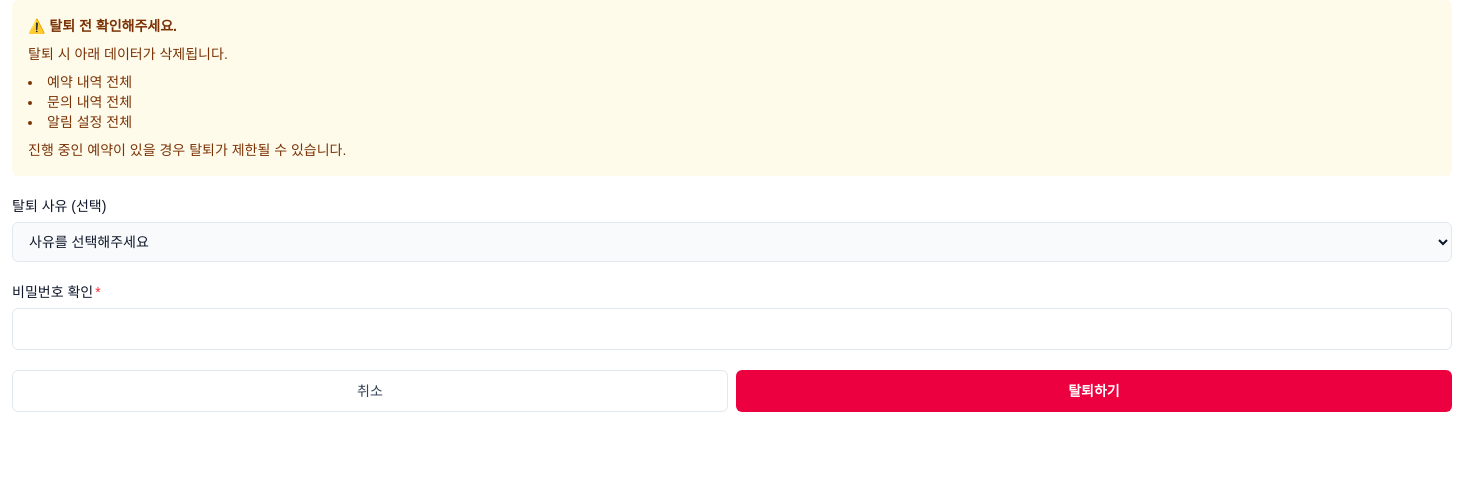
WithdrawFlow › 탈퇴 성공 → 자동 로그아웃 + 완료 화면
The image size is (1464, 491).
Select "기타" in the dropdown labelled "탈퇴 사유 (선택)" at (732, 242), box [12,222,1452,262]
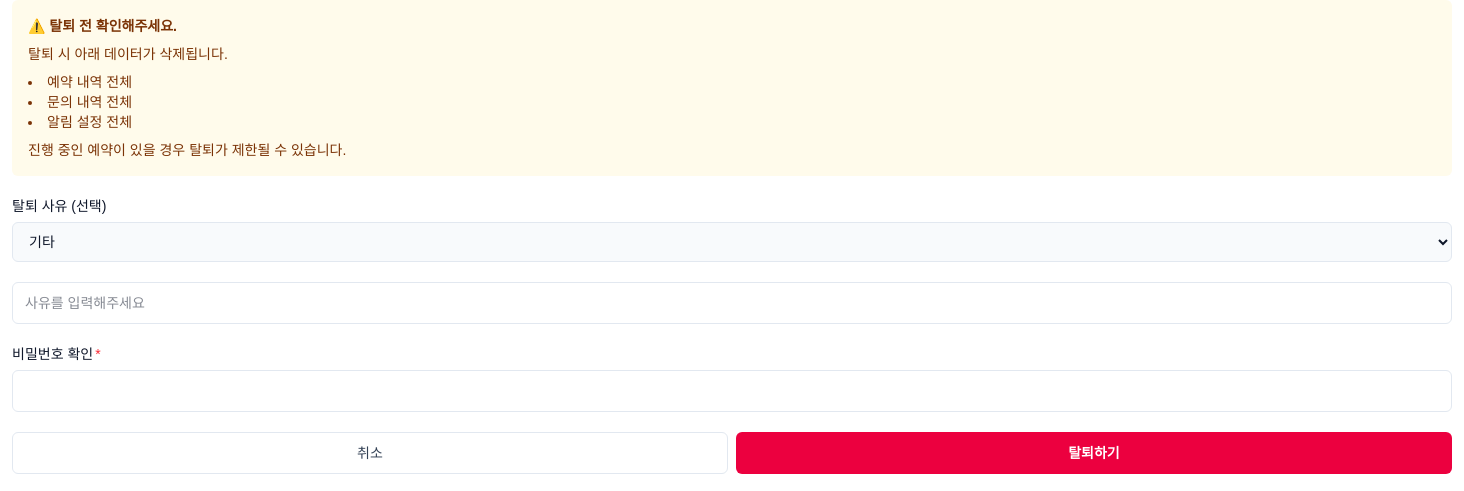
Type "이사" into the field named "기타 사유" at (732, 303), box [12,282,1452,324]
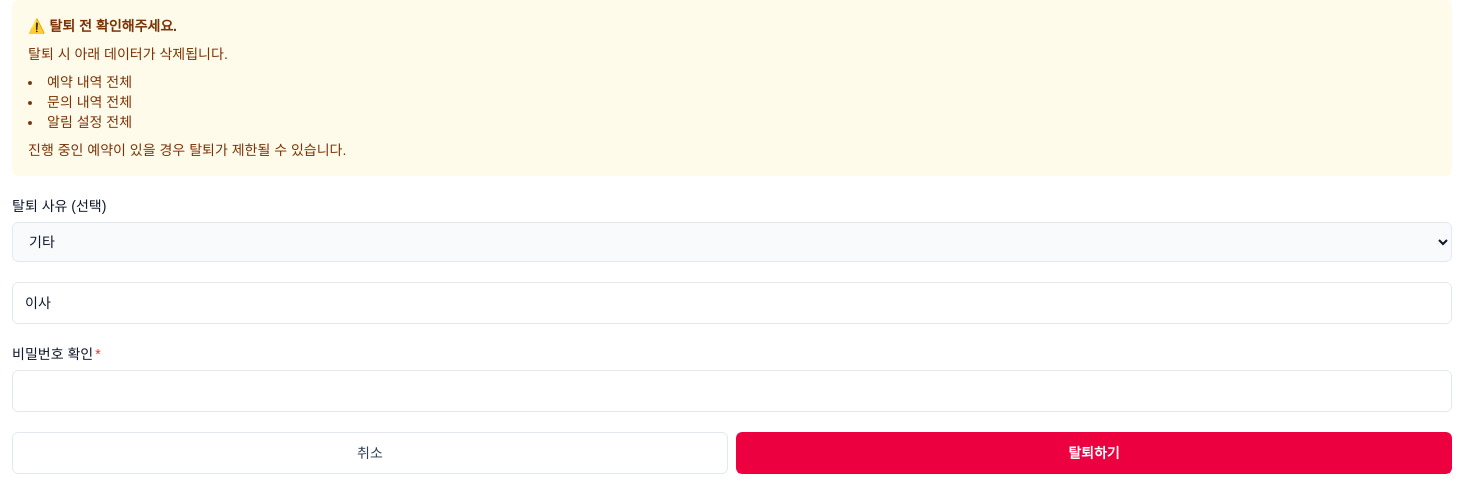
Type "abcd1234" into the password field labelled "비밀번호 확인*" at (732, 391), box [12,370,1452,412]
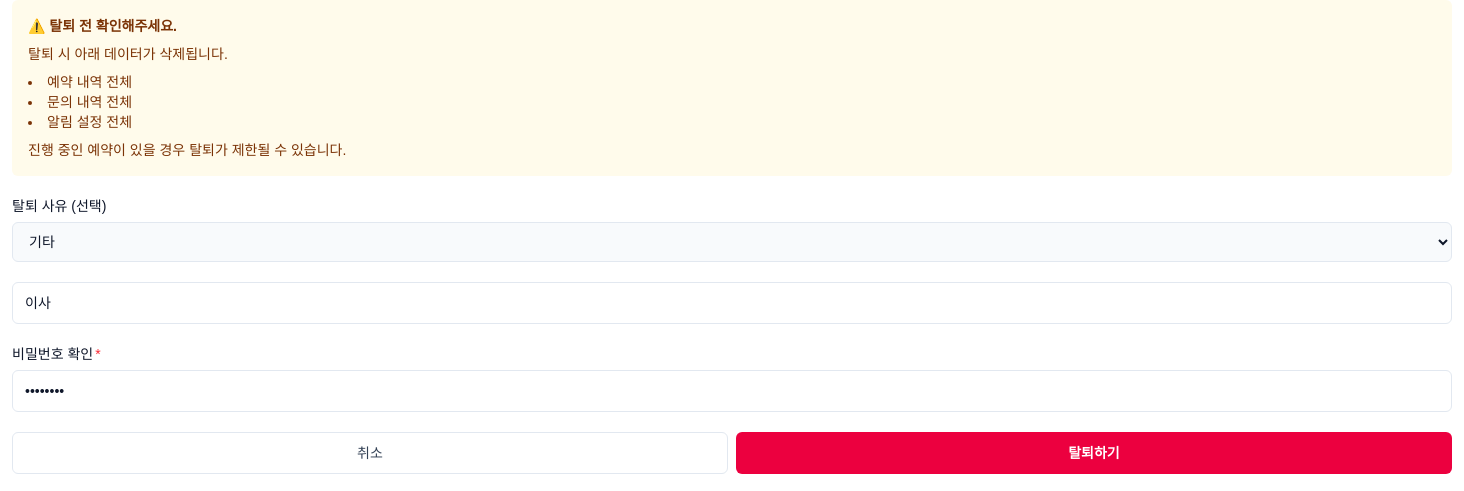
Click the button "탈퇴하기" at (1094, 453), box [736,432,1452,474]
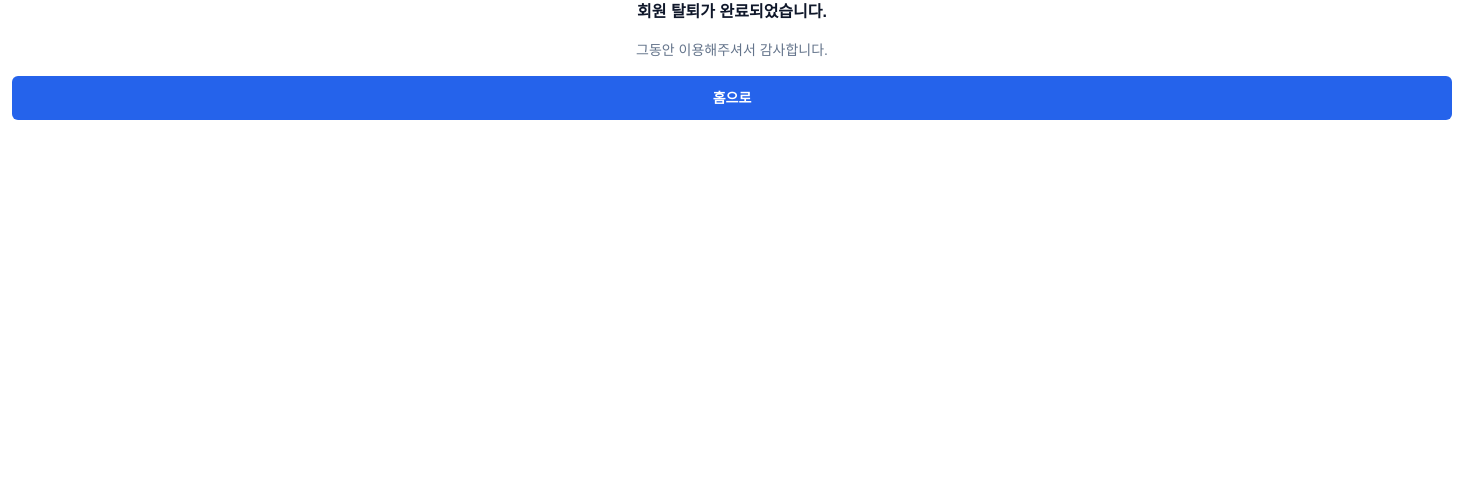
expect the text "회원 탈퇴가 완료되었습니다." is shown: met, box [637,3,827,20]
